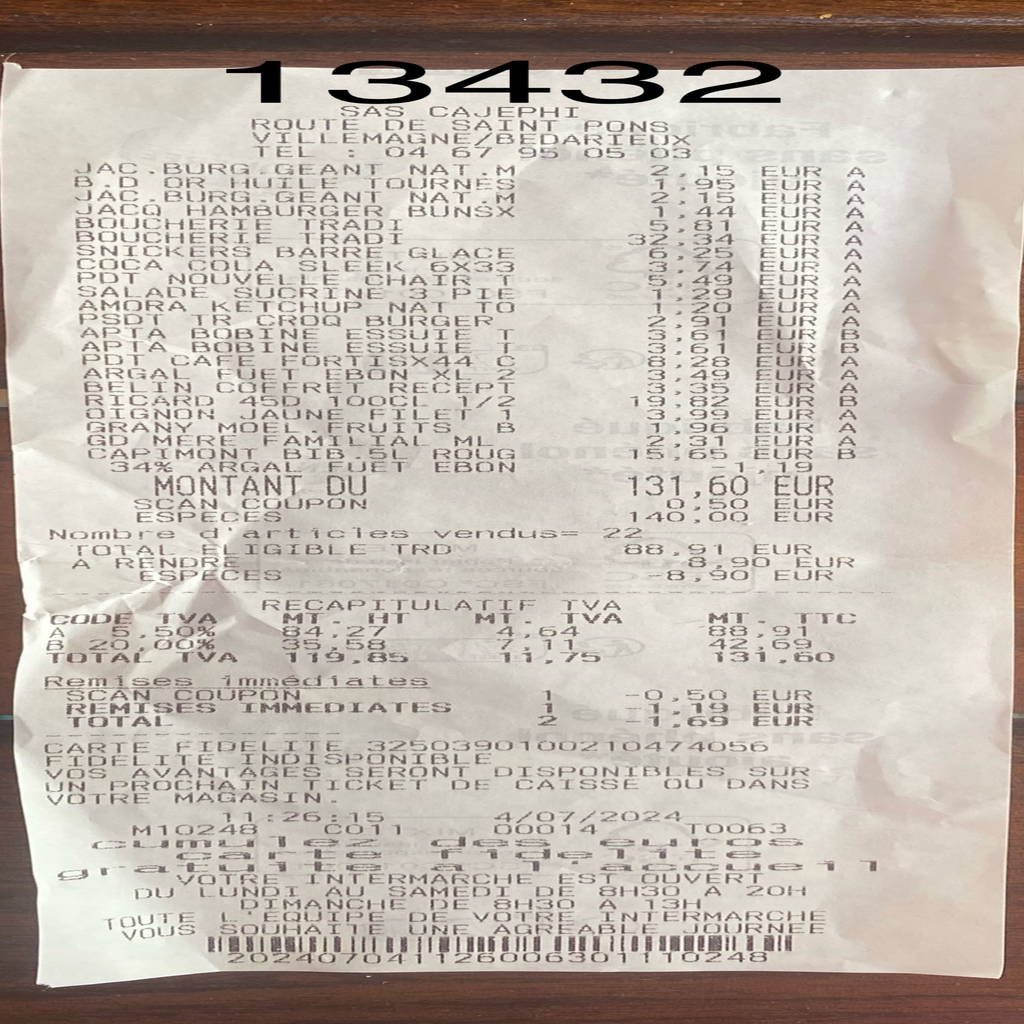recipt: (0, 65, 1022, 988)
